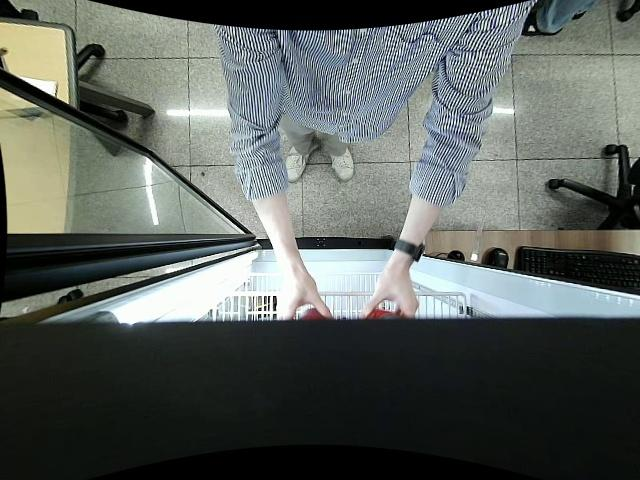00_hand: (358, 272, 421, 320), (279, 274, 335, 319)
11_cocaColaZero: (359, 308, 406, 326), (296, 305, 328, 324)
